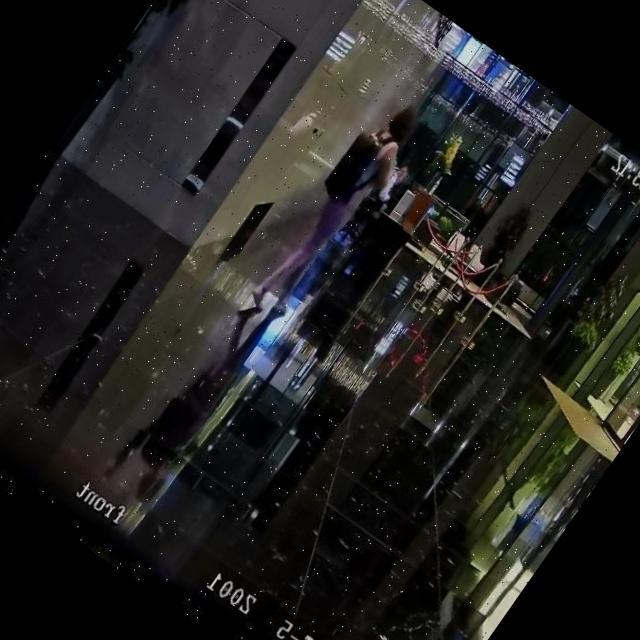person: (241, 88, 433, 332), (357, 158, 411, 224)
